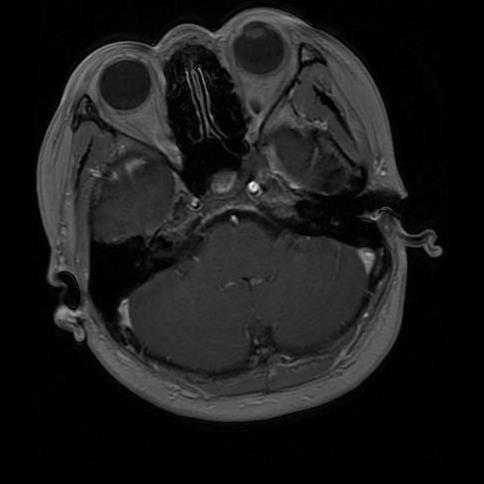Tumour-Pituitary: (206, 169, 250, 202)
